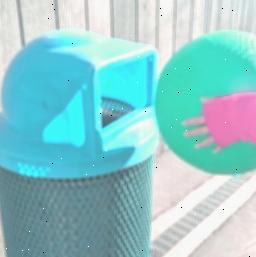algae: (155, 29, 256, 174)
